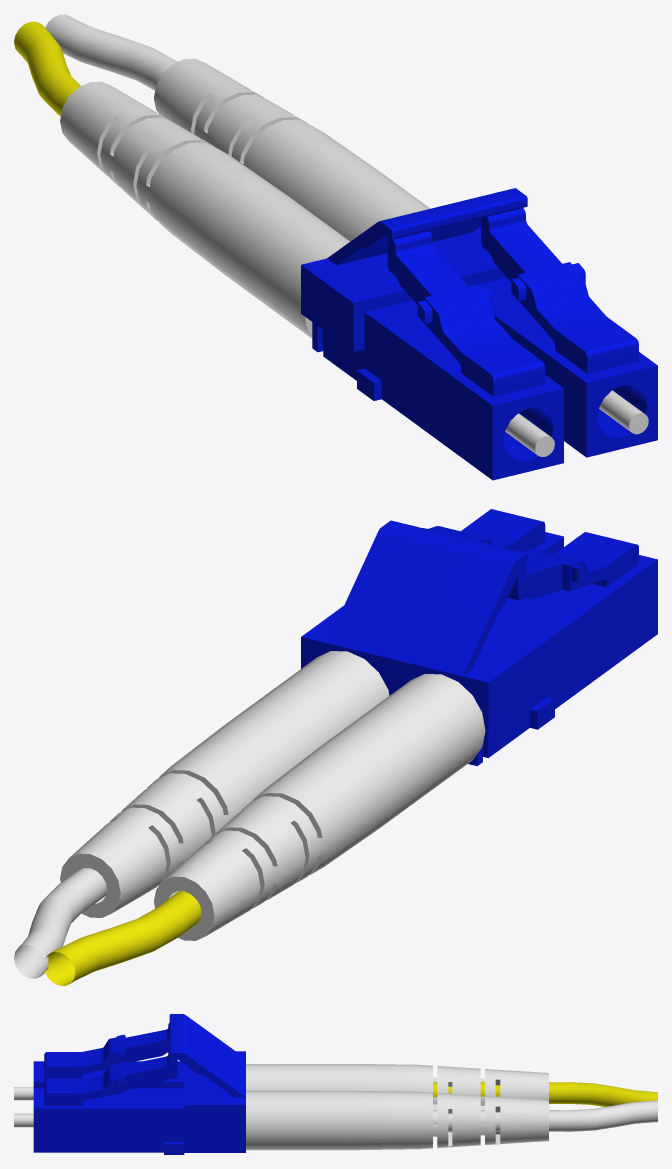
The model's file is LC Connector_LP.fbx.
3 views of the same model, one above another, from view 1: azimuth 30°, elevation 25°; view 2: azimuth 150°, elevation 25°; view 3: azimuth 270°, elevation 25° (orthographic). The views are drawn at different scales.
Visible parts, largest first — view 1: LC Duplex Fiber Connector_LP; view 2: LC Duplex Fiber Connector_LP; view 3: LC Duplex Fiber Connector_LP.
Boxes of the visible parts, <box> form: LC Duplex Fiber Connector_LP: <box>14,14,657,480</box>; LC Duplex Fiber Connector_LP: <box>14,509,657,985</box>; LC Duplex Fiber Connector_LP: <box>14,1014,657,1154</box>.
Bounding box in the file's own units: 1.34 × 1.19 × 6.77.
